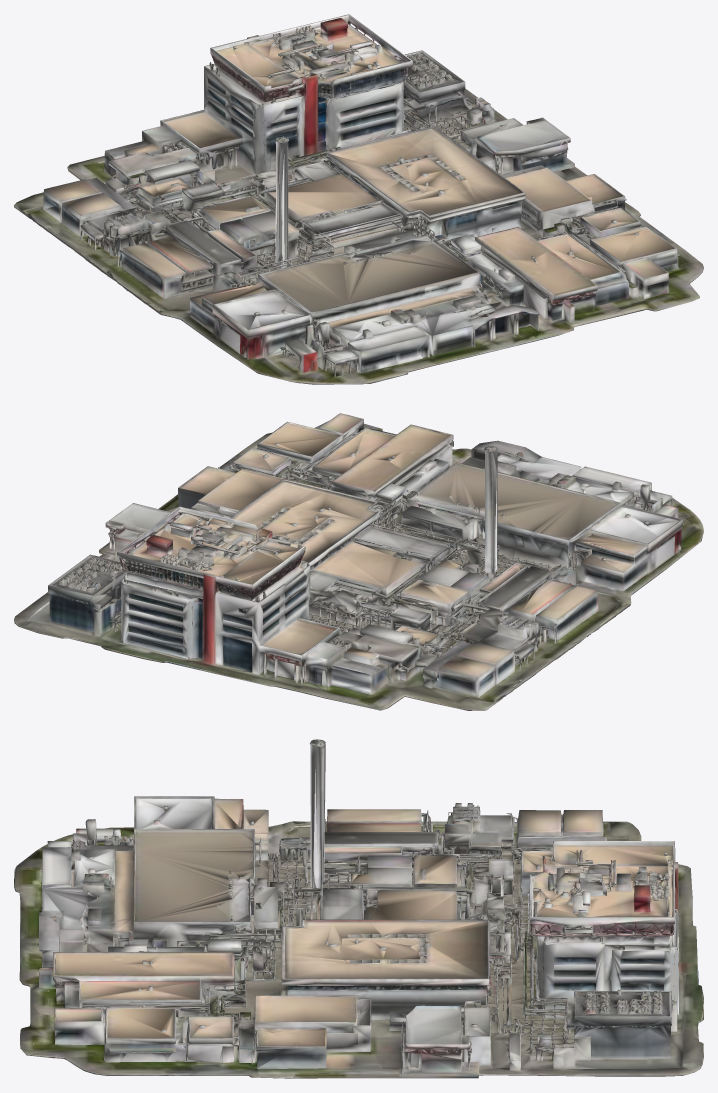
File: bio-manguinhos-ctv.glb
3 renders of one model, top to bottom at view 1: azimuth 30°, elevation 25°; view 2: azimuth 150°, elevation 25°; view 3: azimuth 270°, elevation 25°, orthographic. The views are drawn at different scales.
Parts seen in each view (by area): view 1: mesh_node; view 2: mesh_node; view 3: mesh_node.
Part boxes in pixels (x1,y1,x2,y2): mesh_node: (14,14,703,384); mesh_node: (14,413,703,710); mesh_node: (14,739,703,1078).
Size of the model in its own units: 1.67 by 0.4722 by 1.9.
1 material, 1 textured.
